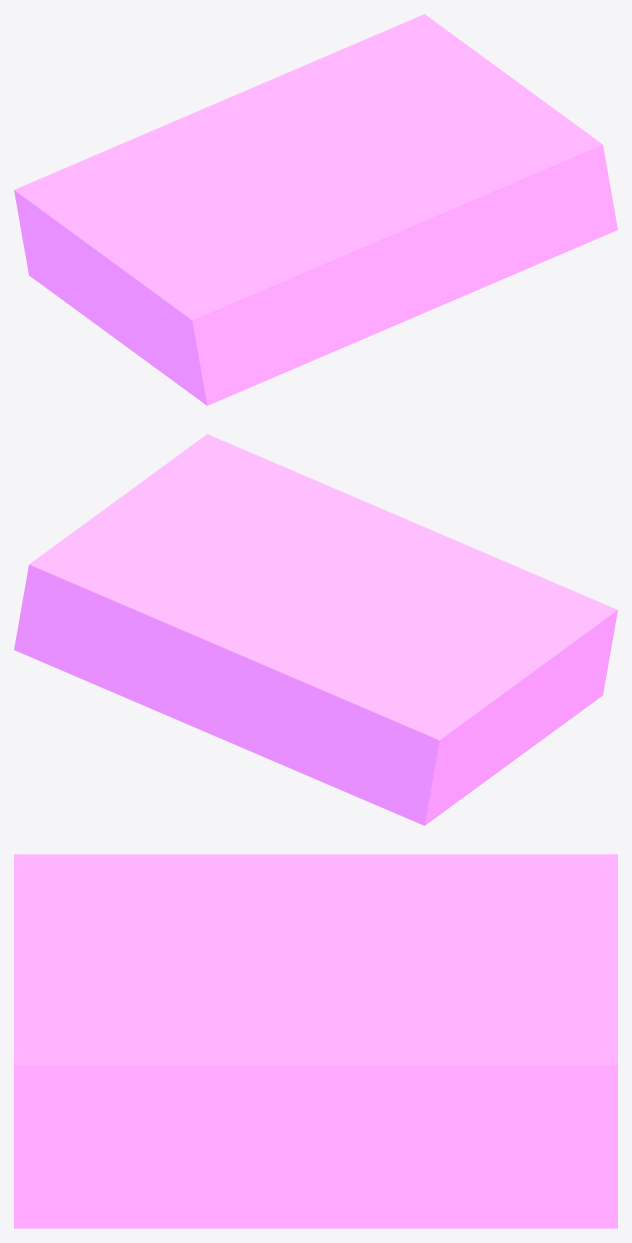
The model's file is ramp_split_fork.glb.
The picture shows the model from 3 angles, top to bottom: view 1: azimuth 30°, elevation 25°; view 2: azimuth 150°, elevation 25°; view 3: azimuth 270°, elevation 25°; orthographic projection. The views are drawn at different scales.
Visible parts, largest first — view 1: MESHY_PROXY_ramp_split_fork; view 2: MESHY_PROXY_ramp_split_fork; view 3: MESHY_PROXY_ramp_split_fork.
Part boxes in pixels (x1,y1,x2,y2): MESHY_PROXY_ramp_split_fork: (14,14,617,405); MESHY_PROXY_ramp_split_fork: (14,434,617,825); MESHY_PROXY_ramp_split_fork: (14,854,617,1228).
Bounding box in the file's own units: 1.38 × 0.5102 × 1.
